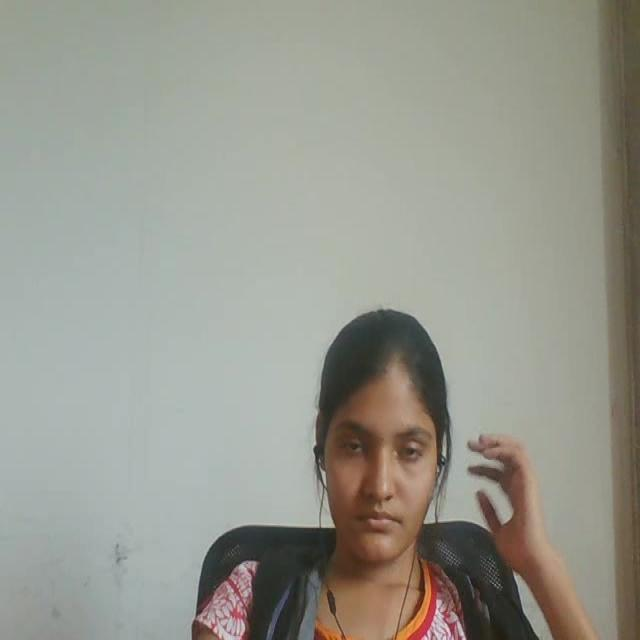Bored: (294, 274, 458, 586)
